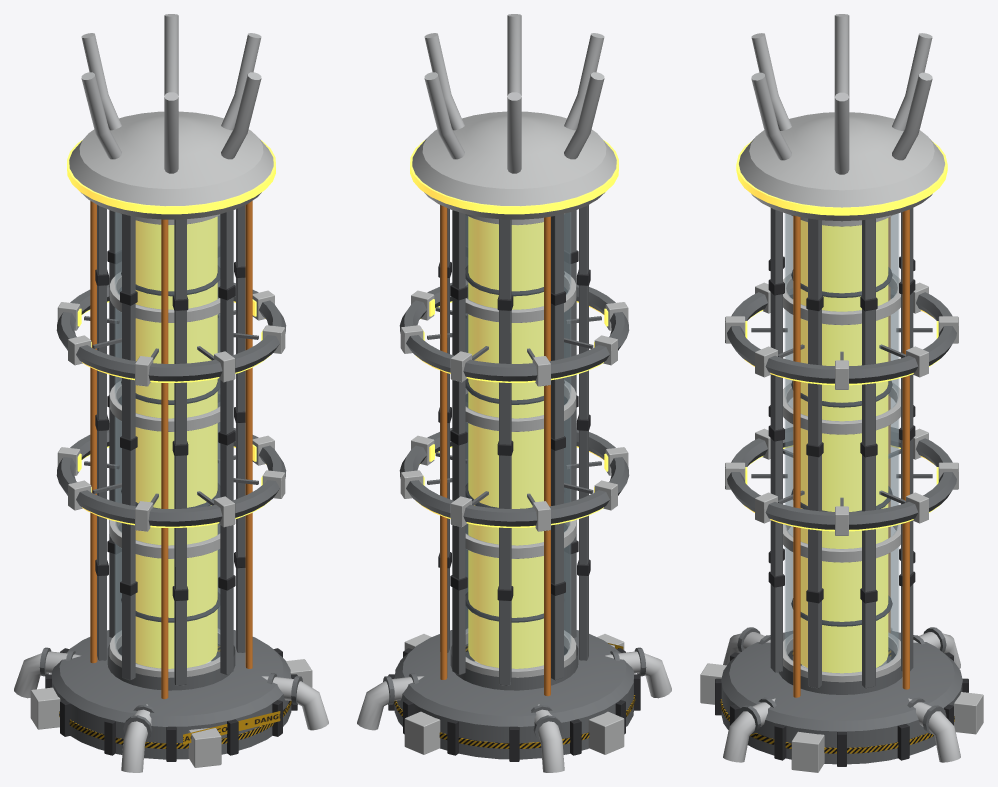
Rendered from reactor_core.glb.
3 renders of one model, left to right at view 1: azimuth 30°, elevation 25°; view 2: azimuth 150°, elevation 25°; view 3: azimuth 270°, elevation 25°, orthographic.
Visible parts, largest first — view 1: reactor_core, Core, Ring1, Ring2; view 2: reactor_core, Core, Ring2, Ring1; view 3: reactor_core, Core, Ring1, Ring2.
Part boxes in pixels (left/top/right/bottom): reactor_core: left=14, top=14, right=328, bottom=772; Core: left=121, top=216, right=220, bottom=668; Ring1: left=56, top=421, right=286, bottom=531; Ring2: left=56, top=276, right=286, bottom=386; reactor_core: left=357, top=14, right=671, bottom=772; Core: left=465, top=216, right=564, bottom=668; Ring2: left=399, top=276, right=629, bottom=386; Ring1: left=399, top=421, right=629, bottom=531; reactor_core: left=700, top=14, right=983, bottom=772; Core: left=791, top=218, right=892, bottom=673; Ring1: left=725, top=427, right=958, bottom=535; Ring2: left=725, top=282, right=958, bottom=389.
Size of the model in its own units: 7.03 by 18.12 by 7.03.
9 materials, 2 textured.
